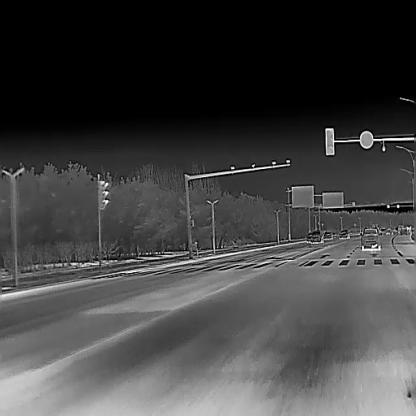car: (360, 228, 380, 250), (310, 230, 322, 243), (339, 229, 349, 239), (322, 231, 333, 239), (307, 232, 312, 242)
